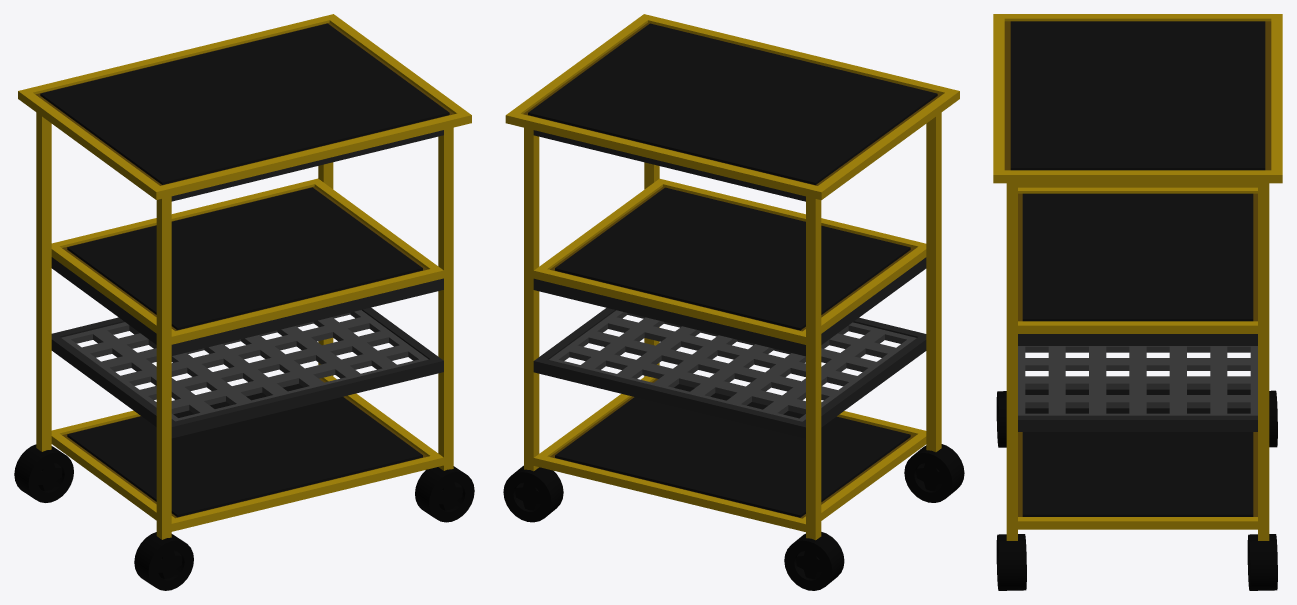
File: Trolley_010.glb
The picture shows the model from 3 angles, left to right: view 1: azimuth 30°, elevation 25°; view 2: azimuth 150°, elevation 25°; view 3: azimuth 270°, elevation 25°; orthographic projection. The views are drawn at different scales.
Parts seen in each view (by area): view 1: Mesh_Trolley_010; view 2: Mesh_Trolley_010; view 3: Mesh_Trolley_010.
Boxes of the visible parts, x1,y1,x2,y2 form: Mesh_Trolley_010: [14, 14, 474, 590]; Mesh_Trolley_010: [503, 14, 964, 590]; Mesh_Trolley_010: [993, 14, 1282, 590].
Size of the model in its own units: 0.6037 by 0.7093 by 0.44.
1 material, 1 textured.
